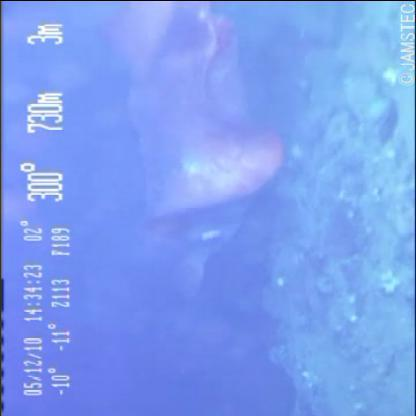Bio: (112, 1, 289, 306)
